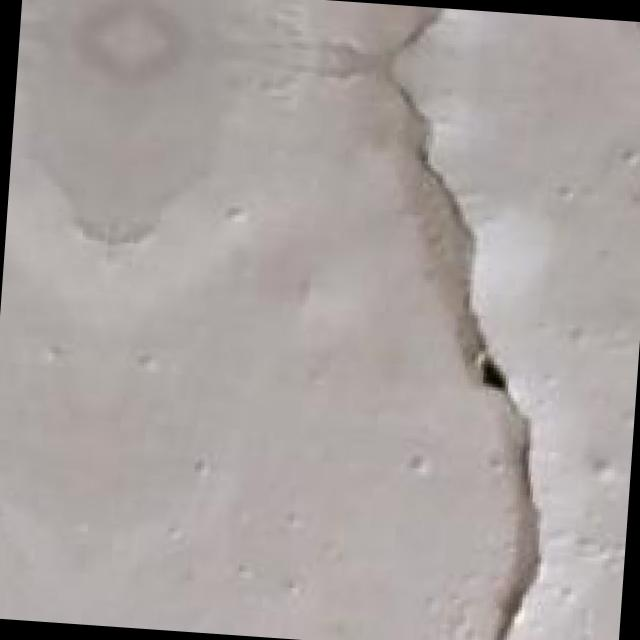crack: (292, 0, 614, 640)
